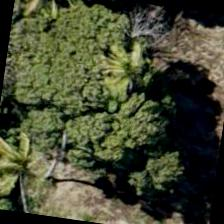Kelapa_Sawit: (84, 11, 186, 113), (0, 110, 87, 212), (0, 117, 75, 218)
